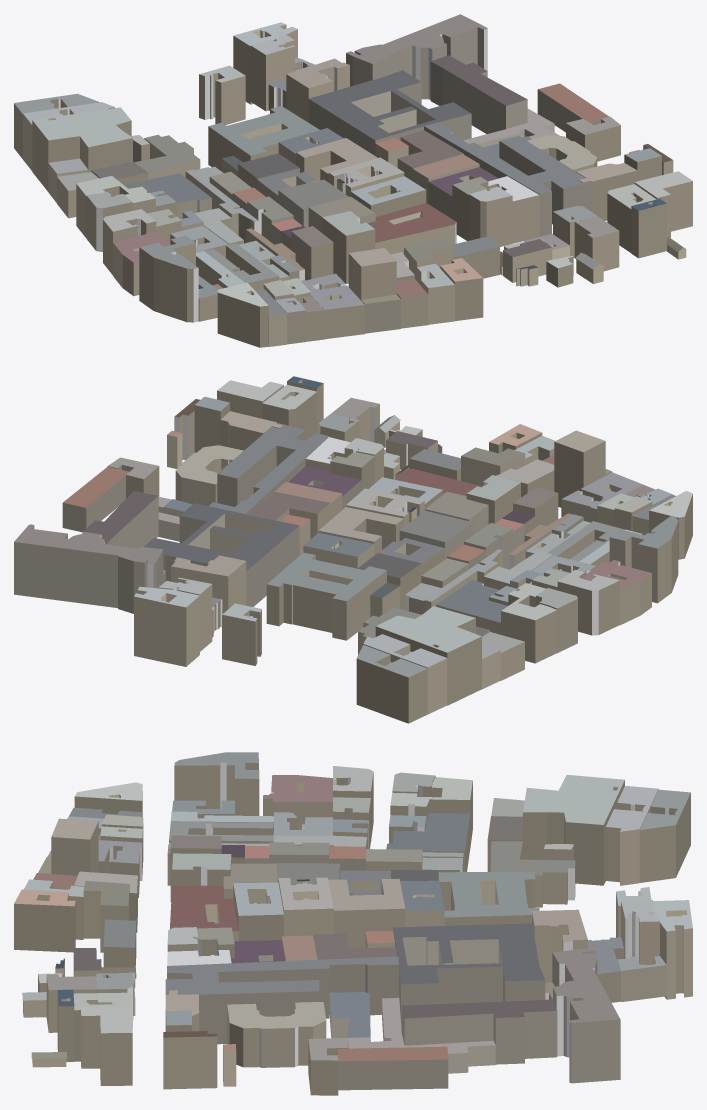
The picture shows the model from 3 angles, top to bottom: view 1: azimuth 30°, elevation 25°; view 2: azimuth 150°, elevation 25°; view 3: azimuth 270°, elevation 25°; orthographic projection. The views are drawn at different scales.
Parts seen in each view (by area): view 1: tuile; view 2: tuile; view 3: tuile.
Part boxes in pixels (x1,y1,x2,y2): tuile: (14, 14, 692, 347); tuile: (14, 376, 692, 723); tuile: (14, 752, 692, 1095).
Size of the model in its own units: 260 by 31.69 by 258.
